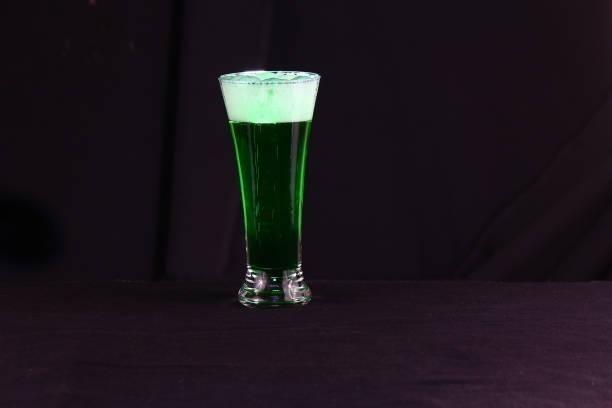glass-normal: (216, 68, 323, 308)
